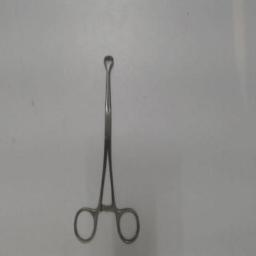Babcock Tissue Forceps: (73, 52, 143, 246)
